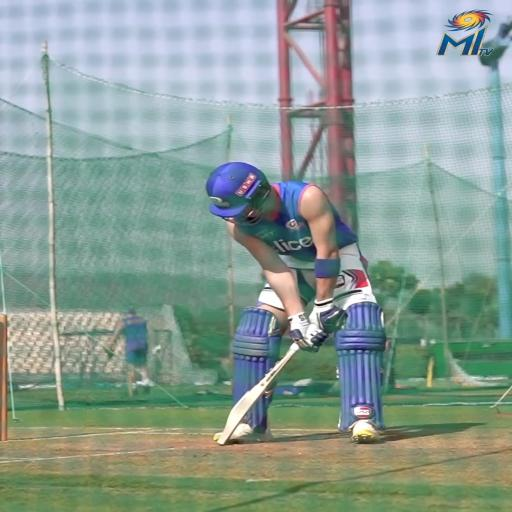Cricket bat: (217, 342, 299, 445)
